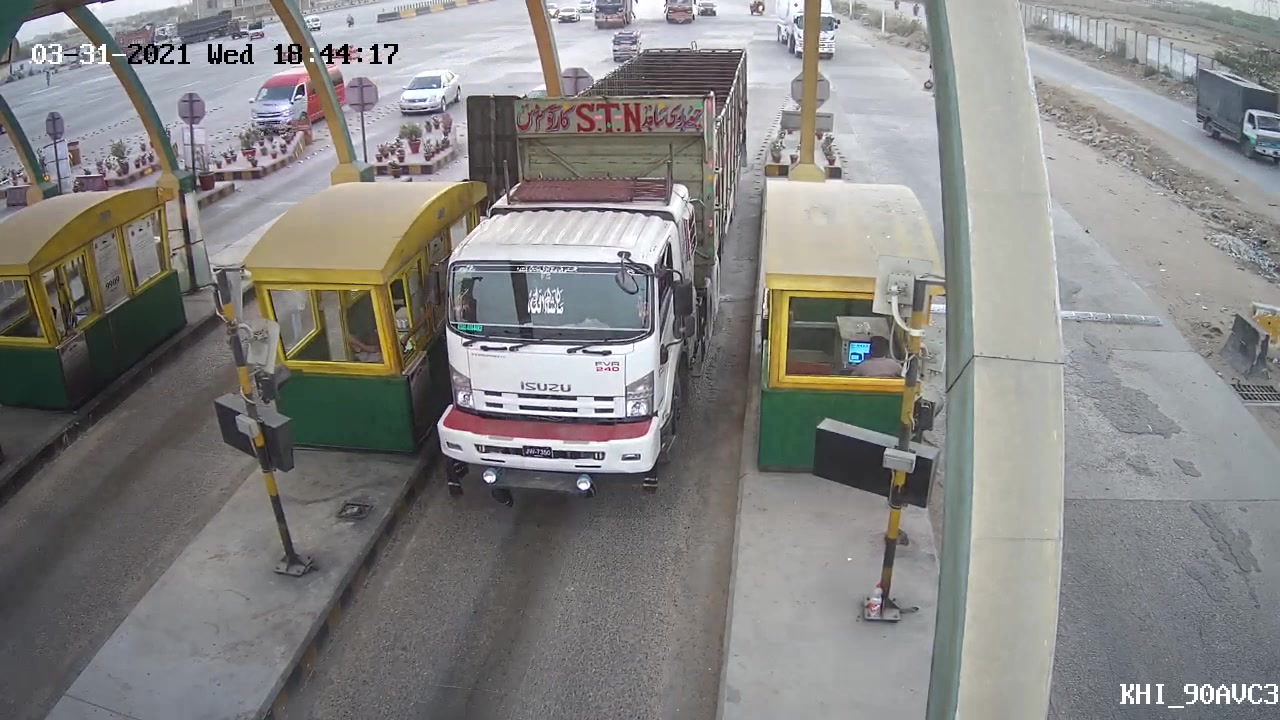F5: (435, 38, 755, 503)
